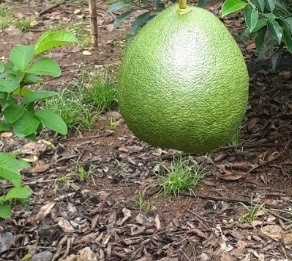Buoi: (98, 1, 251, 148)
